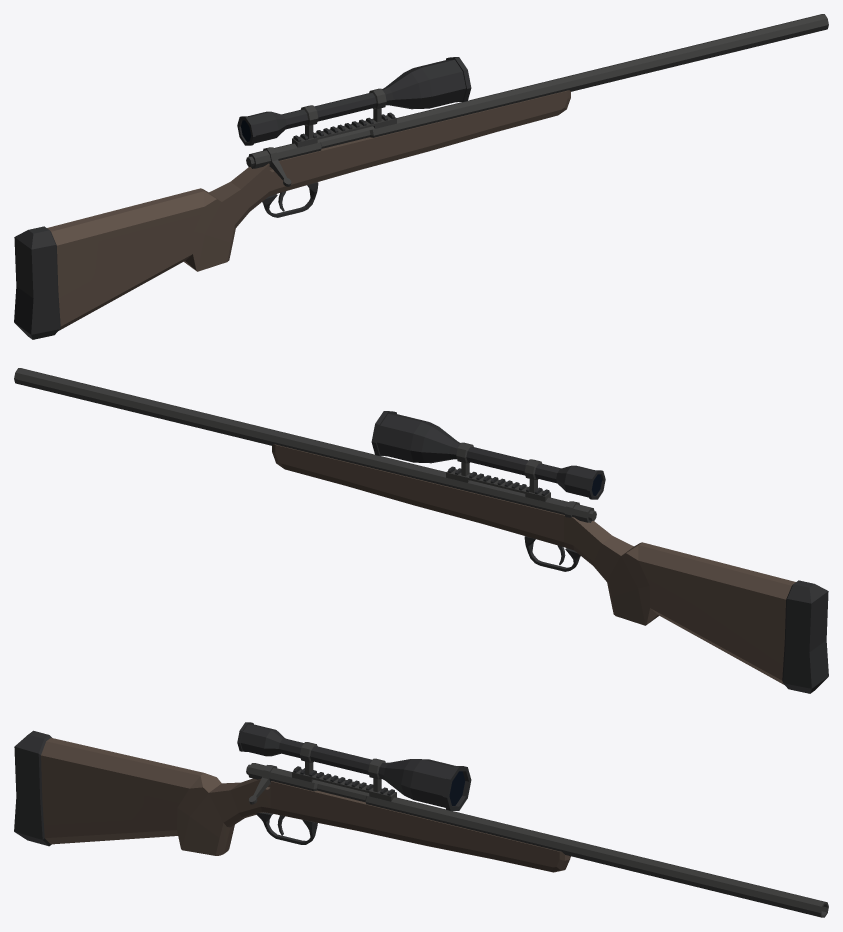
File: sniperrifle_6.glb
3 views of the same model, one above another, from view 1: azimuth 30°, elevation 25°; view 2: azimuth 150°, elevation 25°; view 3: azimuth 330°, elevation 25° (orthographic).
Parts seen in each view (by area): view 1: SniperRifle_6; view 2: SniperRifle_6; view 3: SniperRifle_6.
Boxes of the visible parts, x1,y1,x2,y2 form: SniperRifle_6: (14, 14, 828, 339); SniperRifle_6: (14, 368, 828, 693); SniperRifle_6: (14, 722, 828, 917).
Bounding box in the file's own units: 7.21 × 1.52 × 0.4936.
